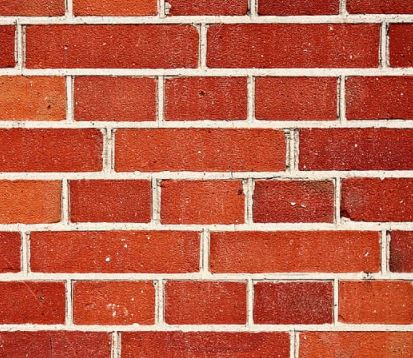brick: (23, 22, 201, 69), (208, 229, 384, 276), (28, 229, 205, 274), (206, 24, 384, 68), (114, 129, 289, 172), (1, 127, 107, 176), (118, 329, 292, 358), (295, 128, 413, 170), (157, 178, 249, 226), (250, 177, 338, 225), (67, 177, 155, 224), (72, 76, 158, 123), (162, 278, 248, 325), (250, 279, 336, 326), (70, 280, 161, 324), (164, 76, 250, 121), (254, 76, 340, 121), (337, 276, 413, 324), (1, 73, 70, 123), (340, 177, 413, 223), (1, 329, 115, 358), (296, 328, 413, 356), (342, 75, 413, 120), (1, 278, 68, 325), (1, 177, 65, 226), (257, 1, 344, 18), (72, 1, 161, 17), (165, 1, 253, 16), (387, 229, 413, 275), (386, 24, 413, 67), (347, 1, 413, 17), (1, 230, 26, 271), (1, 1, 68, 16), (1, 21, 20, 71)
